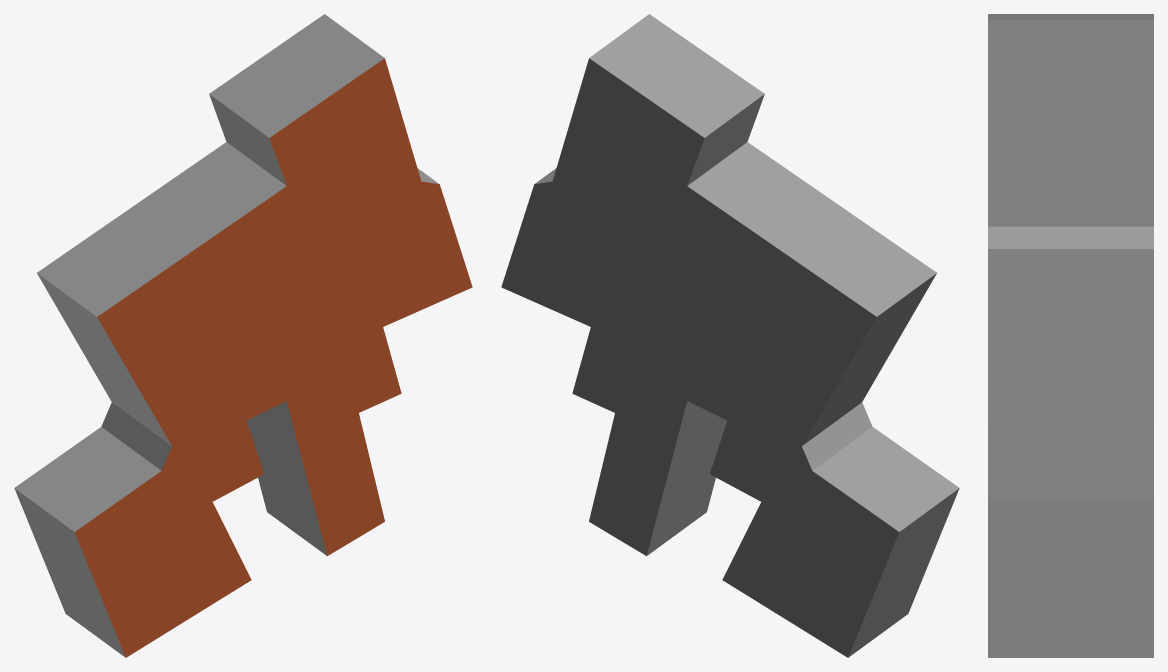
File: construction_0387_assumed_A_Casa_h6m.obj
3 renders of one model, left to right at view 1: azimuth 30°, elevation 25°; view 2: azimuth 150°, elevation 25°; view 3: azimuth 270°, elevation 25°, orthographic. The views are drawn at different scales.
Visible parts, largest first — view 1: construction_0387_assumed_A_Casa; view 2: construction_0387_assumed_A_Casa; view 3: construction_0387_assumed_A_Casa.
Part boxes in pixels (bbox=[...]): construction_0387_assumed_A_Casa: bbox=[14, 14, 472, 657]; construction_0387_assumed_A_Casa: bbox=[501, 14, 959, 657]; construction_0387_assumed_A_Casa: bbox=[988, 14, 1153, 657].
Size of the model in its own units: 22.87 by 29.45 by 6.
